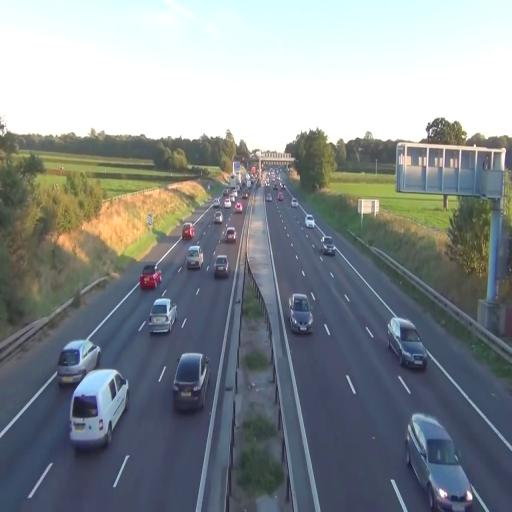vehicle: (406, 412, 476, 512), (70, 367, 128, 451), (172, 352, 210, 414), (57, 338, 102, 388), (387, 317, 427, 371), (148, 296, 178, 335), (288, 294, 313, 334), (139, 267, 161, 292), (186, 244, 203, 271), (214, 254, 230, 278), (182, 222, 196, 242), (321, 236, 335, 254), (224, 227, 236, 244), (304, 216, 315, 230)
